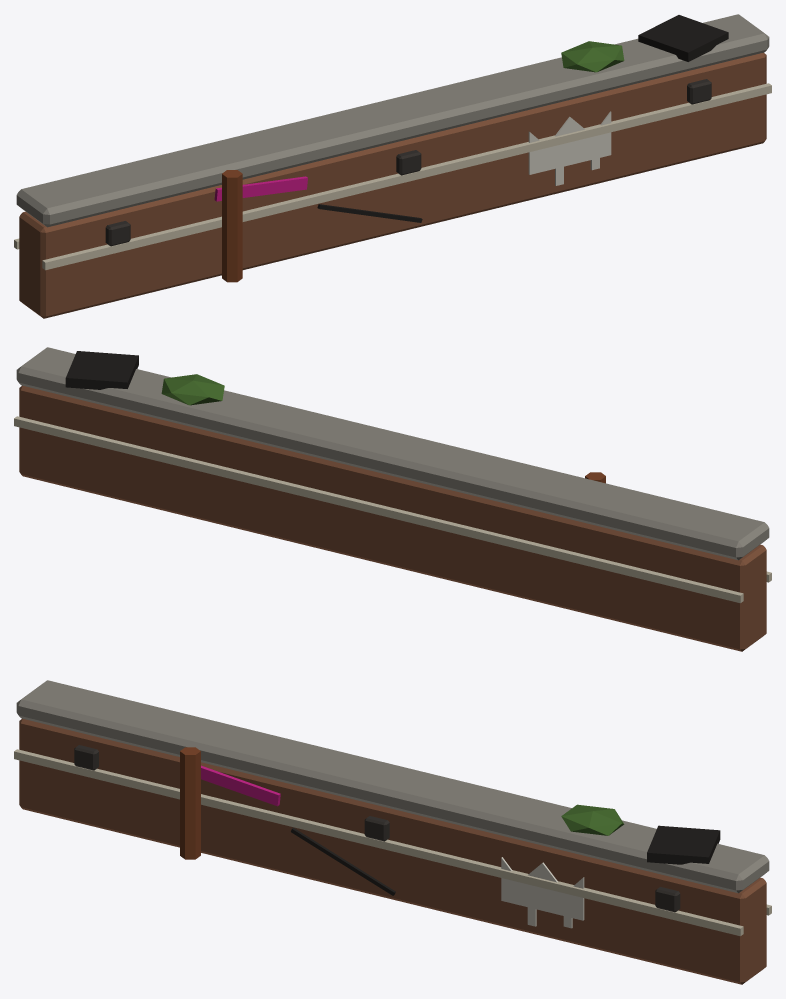
Rendered from b_roof_edge.glb.
The picture shows the model from 3 angles, top to bottom: view 1: azimuth 30°, elevation 25°; view 2: azimuth 150°, elevation 25°; view 3: azimuth 330°, elevation 25°; orthographic projection.
Visible parts, largest first — view 1: b_roof_edge; view 2: b_roof_edge; view 3: b_roof_edge.
Part boxes in pixels (<box>): b_roof_edge: <box>14,14,771,318</box>; b_roof_edge: <box>14,347,771,651</box>; b_roof_edge: <box>14,680,771,984</box>.
Size of the model in its own units: 4 by 0.668 by 0.447.
